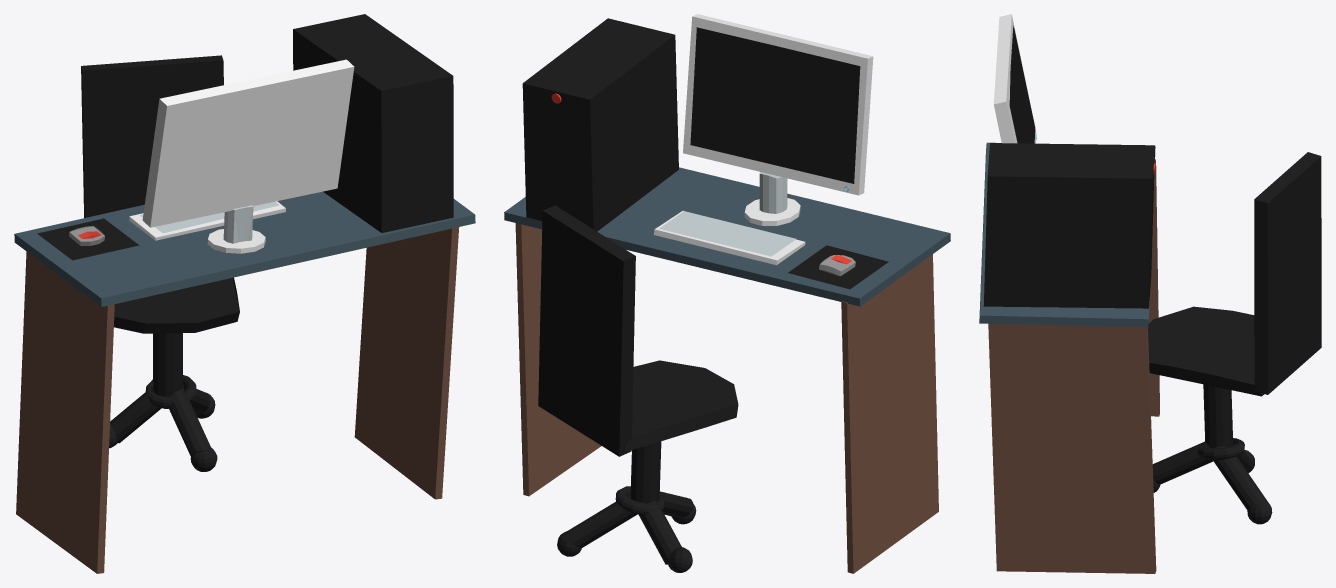
Rendered from Desk.glb.
3 renders of one model, left to right at view 1: azimuth 30°, elevation 25°; view 2: azimuth 150°, elevation 25°; view 3: azimuth 270°, elevation 25°, orthographic. The views are drawn at different scales.
Parts seen in each view (by area): view 1: Node; view 2: Node; view 3: Node.
Boxes of the visible parts, x1,y1,x2,y2 form: Node: [14, 14, 475, 573]; Node: [504, 14, 950, 573]; Node: [979, 14, 1321, 573].
Bounding box in the file's own units: 1.48 × 1.74 × 1.25.
